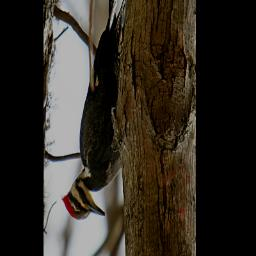Woodpecker: (61, 0, 130, 221)
